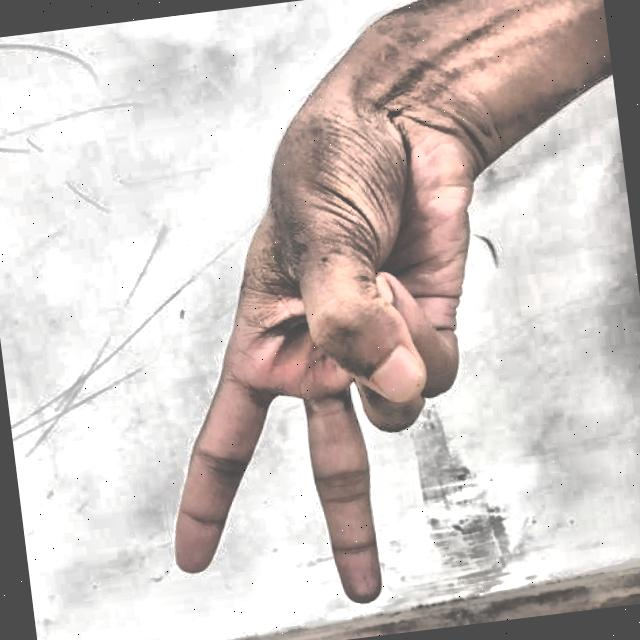Pa: (73, 42, 549, 640)
